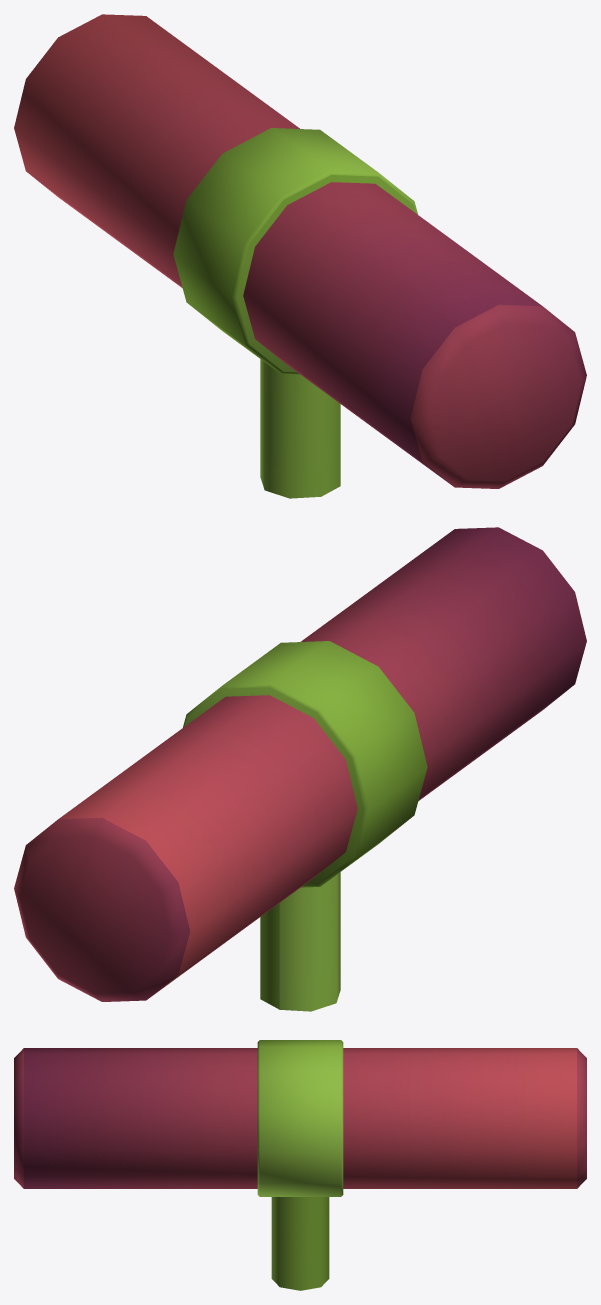
File: OBS0110157.fbx
The picture shows the model from 3 angles, top to bottom: view 1: azimuth 30°, elevation 25°; view 2: azimuth 150°, elevation 25°; view 3: azimuth 270°, elevation 25°; orthographic projection. The views are drawn at different scales.
Visible parts, largest first — view 1: smOBS0110157; view 2: smOBS0110157; view 3: smOBS0110157.
Boxes of the visible parts, box(x1,y1,x2,y2) form: smOBS0110157: box(14, 14, 586, 498); smOBS0110157: box(14, 527, 586, 1011); smOBS0110157: box(14, 1040, 586, 1290).
Bounding box in the file's own units: 79.78 × 129 × 290.
